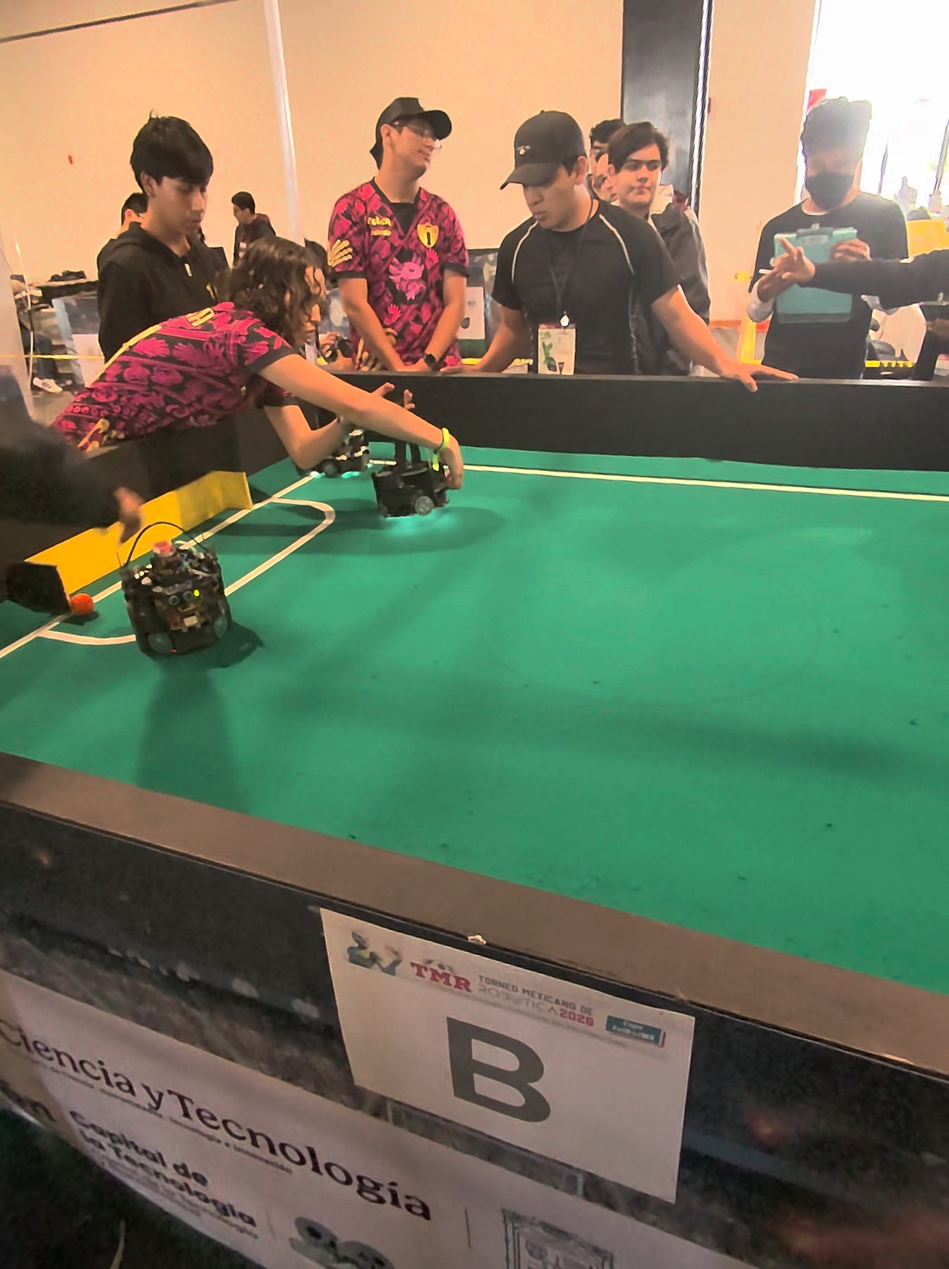Robot: (119, 527, 245, 664), (333, 425, 372, 476)
pelota: (70, 595, 94, 620)
